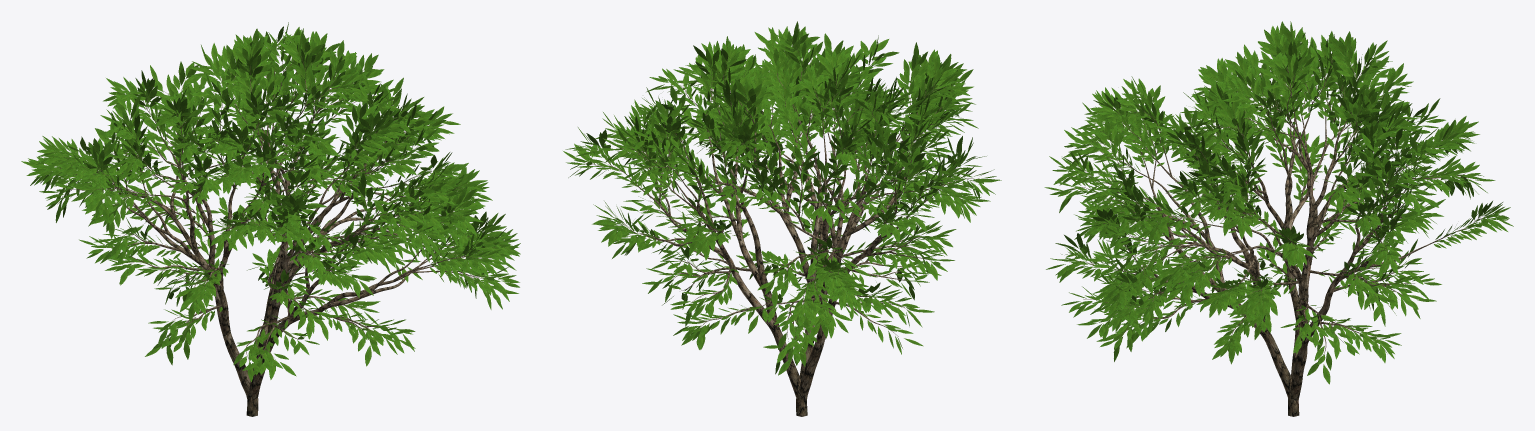
File: model-calibrated.glb
The picture shows the model from 3 angles, left to right: view 1: azimuth 30°, elevation 25°; view 2: azimuth 150°, elevation 25°; view 3: azimuth 270°, elevation 25°; orthographic projection.
Parts seen in each view (by area): view 1: leaves preview, tree preview; view 2: leaves preview, tree preview; view 3: leaves preview, tree preview.
Part boxes in pixels (left/top/right/bottom): leaves preview: left=21, top=22, right=520, bottom=381; tree preview: left=59, top=46, right=499, bottom=416; leaves preview: left=563, top=21, right=1001, bottom=375; tree preview: left=584, top=51, right=979, bottom=416; leaves preview: left=1044, top=21, right=1513, bottom=384; tree preview: left=1069, top=55, right=1484, bottom=416.
Bounding box in the file's own units: 11.1 × 9.39 × 11.51.
2 materials, 2 textured.
